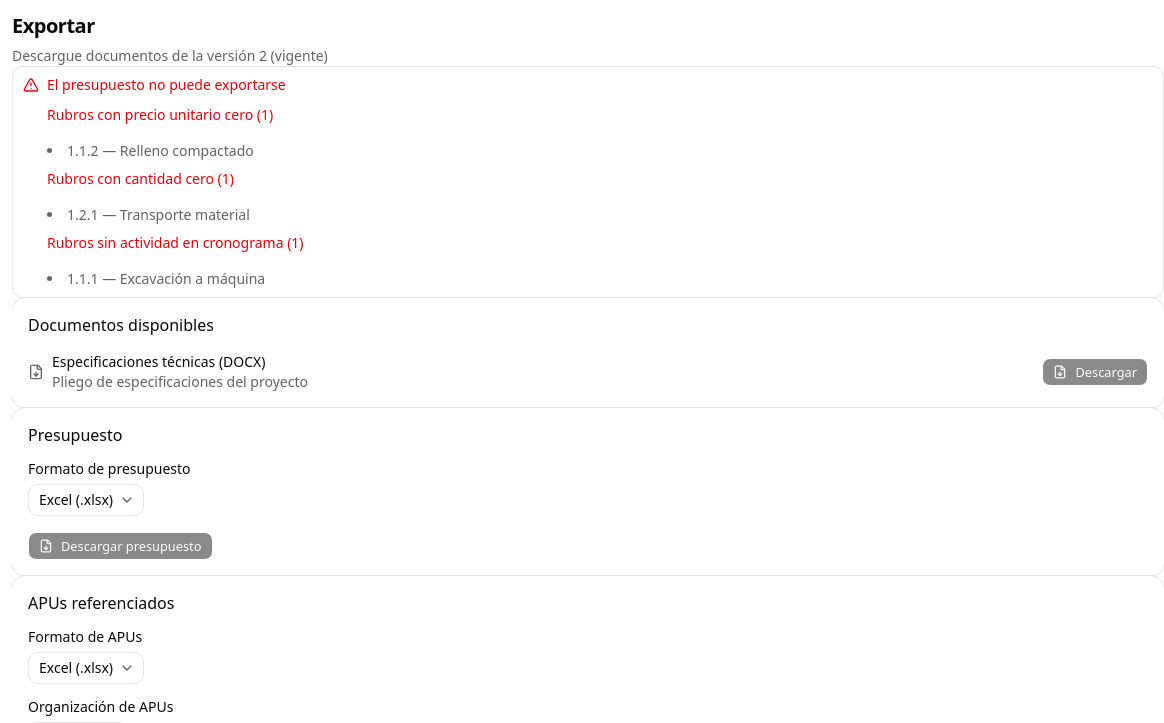
ExportPage — presupuesto/APUs › no descarga durante preflight pendiente ni con respuesta de otro contexto
The width and height of the screenshot is (1164, 723).
Expected: the heading "Exportar" is shown, 12,12 -> 95,40
Click the button "Descargar presupuesto" at [120, 546], box 28,532 -> 212,560
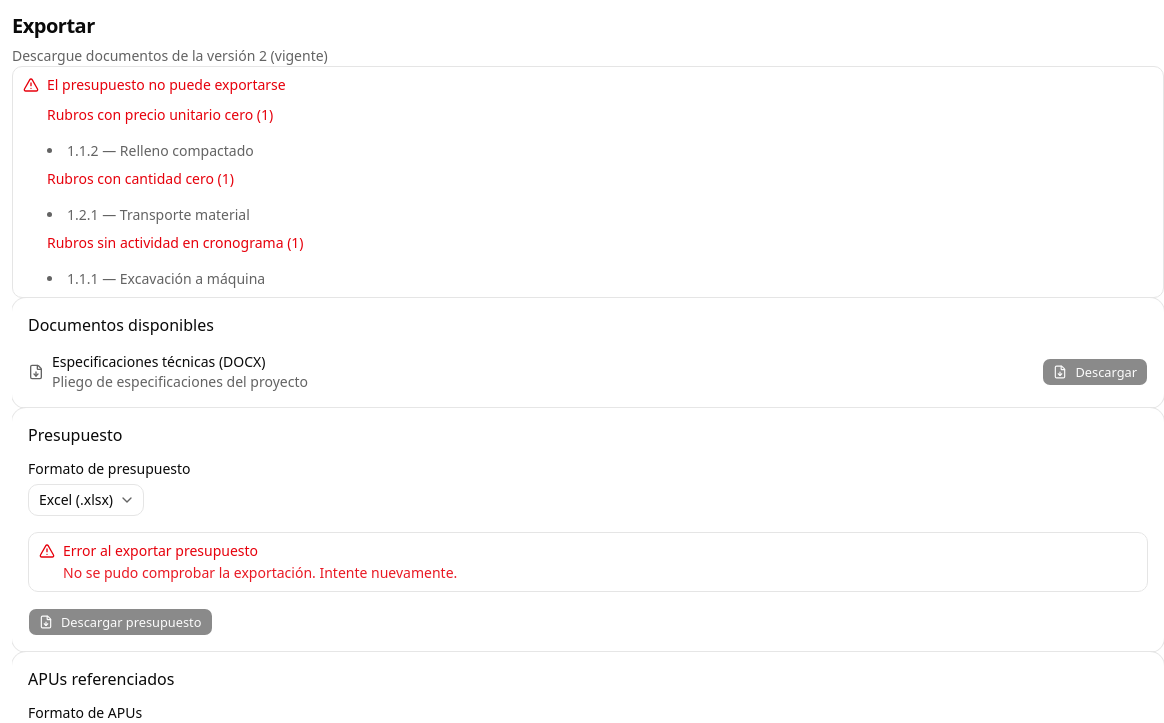
Expected: the button "Descargar presupuesto" is disabled, 28,608 -> 212,636
Now the text "No se pudo comprobar la exportación. Intente nuevamente." is shown, box 63,563 -> 457,582
